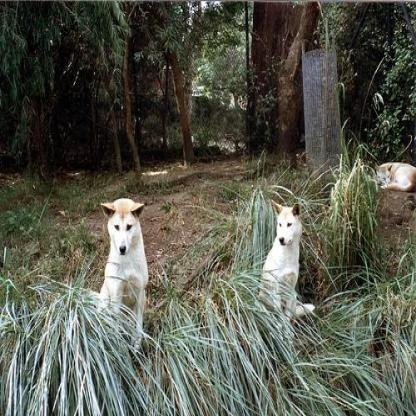dingo: (88, 196, 149, 353), (258, 198, 314, 325), (371, 156, 414, 191)
